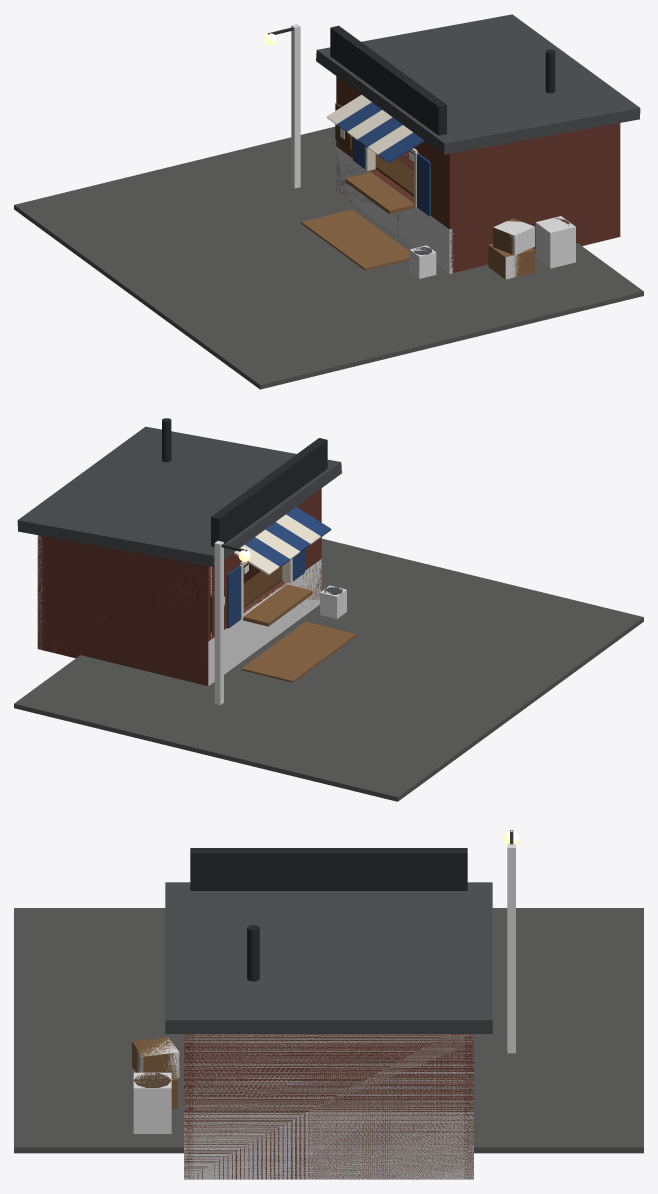
The model's file is booth-3.glb.
3 renders of one model, top to bottom at view 1: azimuth 30°, elevation 25°; view 2: azimuth 150°, elevation 25°; view 3: azimuth 270°, elevation 25°, orthographic. The views are drawn at different scales.
Visible parts, largest first — view 1: 25_#5a5a58_noshadow, 26_#4c4e52, 14_#6a3a2e, 27_#2a2c30_noshadow, solid.008, 04_#8a6440_noshadow, 01_#2c4a7a_noshadow_r320, 07_#8a6440_r320, 00_#e8e0d0_noshadow_r320, solid.003, solid.004, 15_#6a3a2e_r320 (+3 smaller); view 2: 25_#5a5a58_noshadow, 26_#4c4e52, 14_#6a3a2e, 27_#2a2c30_noshadow, 04_#8a6440_noshadow, solid.008, 01_#2c4a7a_noshadow_r320, 00_#e8e0d0_noshadow_r320, solid.004, 07_#8a6440_r320, 19_#5a3e26_noshadow, solid (+1 smaller); view 3: 25_#5a5a58_noshadow, 26_#4c4e52, solid.005, 14_#6a3a2e, 27_#2a2c30_noshadow, solid.003, solid.004, 08_#7a5a3a_r110, 13_#2a2c30_r320, solid.002.
Part boxes in pixels (box(x1,y1,x2,y2)): 25_#5a5a58_noshadow: box(14, 126, 643, 389); 26_#4c4e52: box(316, 14, 640, 154); 14_#6a3a2e: box(336, 76, 620, 273); 27_#2a2c30_noshadow: box(330, 25, 446, 135); solid.008: box(336, 147, 453, 273); 04_#8a6440_noshadow: box(301, 209, 409, 270); 01_#2c4a7a_noshadow_r320: box(337, 102, 430, 216); 07_#8a6440_r320: box(345, 172, 535, 279); 00_#e8e0d0_noshadow_r320: box(326, 94, 418, 206); solid.003: box(535, 216, 575, 268); solid.004: box(291, 24, 300, 188); 15_#6a3a2e_r320: box(336, 93, 455, 228); 25_#5a5a58_noshadow: box(14, 538, 643, 801); 26_#4c4e52: box(17, 426, 341, 566); 14_#6a3a2e: box(37, 488, 321, 685); 27_#2a2c30_noshadow: box(211, 438, 327, 546); 04_#8a6440_noshadow: box(241, 621, 356, 682); solid.008: box(208, 559, 321, 685); 01_#2c4a7a_noshadow_r320: box(227, 507, 331, 628); 00_#e8e0d0_noshadow_r320: box(234, 514, 320, 619); solid.004: box(214, 540, 223, 705); 07_#8a6440_r320: box(243, 584, 312, 626); 19_#5a3e26_noshadow: box(243, 566, 282, 608); solid: box(320, 585, 346, 618); 25_#5a5a58_noshadow: box(14, 908, 643, 1153); 26_#4c4e52: box(165, 882, 492, 1033); solid.005: box(184, 1034, 473, 1179); 14_#6a3a2e: box(184, 1034, 473, 1179); 27_#2a2c30_noshadow: box(190, 848, 467, 890); solid.003: box(133, 1072, 171, 1133); solid.004: box(507, 844, 515, 1053); 08_#7a5a3a_r110: box(132, 1037, 179, 1078); 13_#2a2c30_r320: box(247, 925, 259, 981); solid.002: box(136, 1038, 179, 1077).
Size of the model in its own units: 10.3 by 3.95 by 10.
